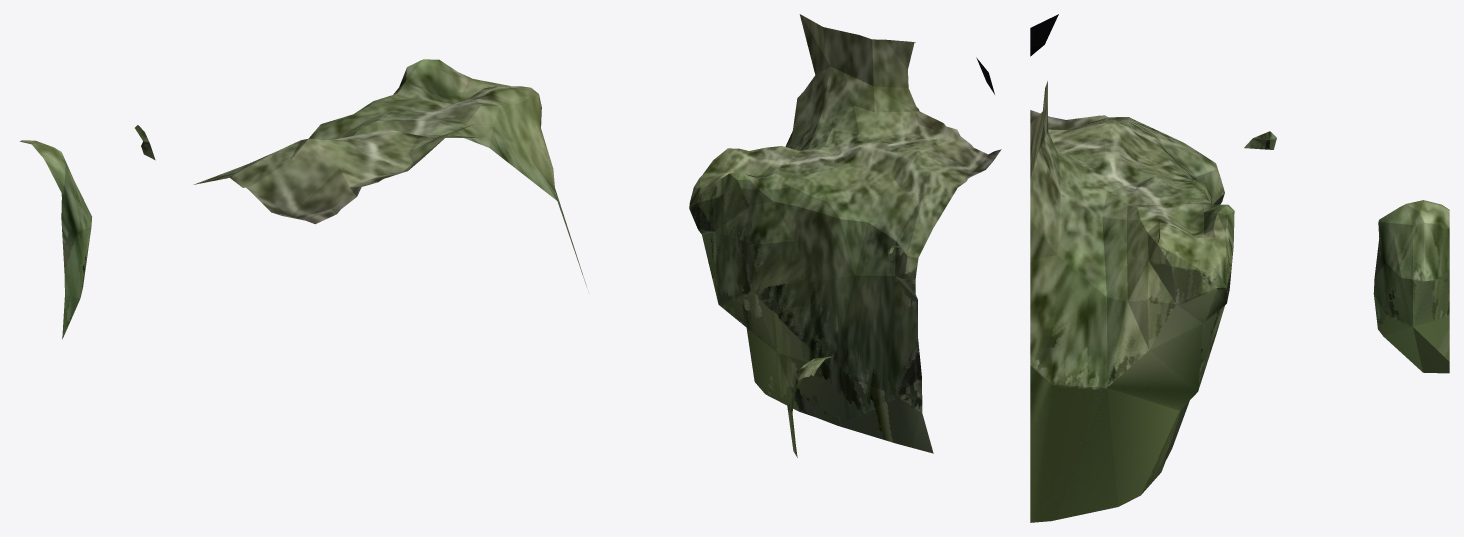
3 renders of one model, left to right at view 1: azimuth 30°, elevation 25°; view 2: azimuth 150°, elevation 25°; view 3: azimuth 270°, elevation 25°, orthographic. The views are drawn at different scales.
Bounding box in the file's own units: 2.21 × 2.95 × 2.95.
Materials: 3 (3 with a texture image).
